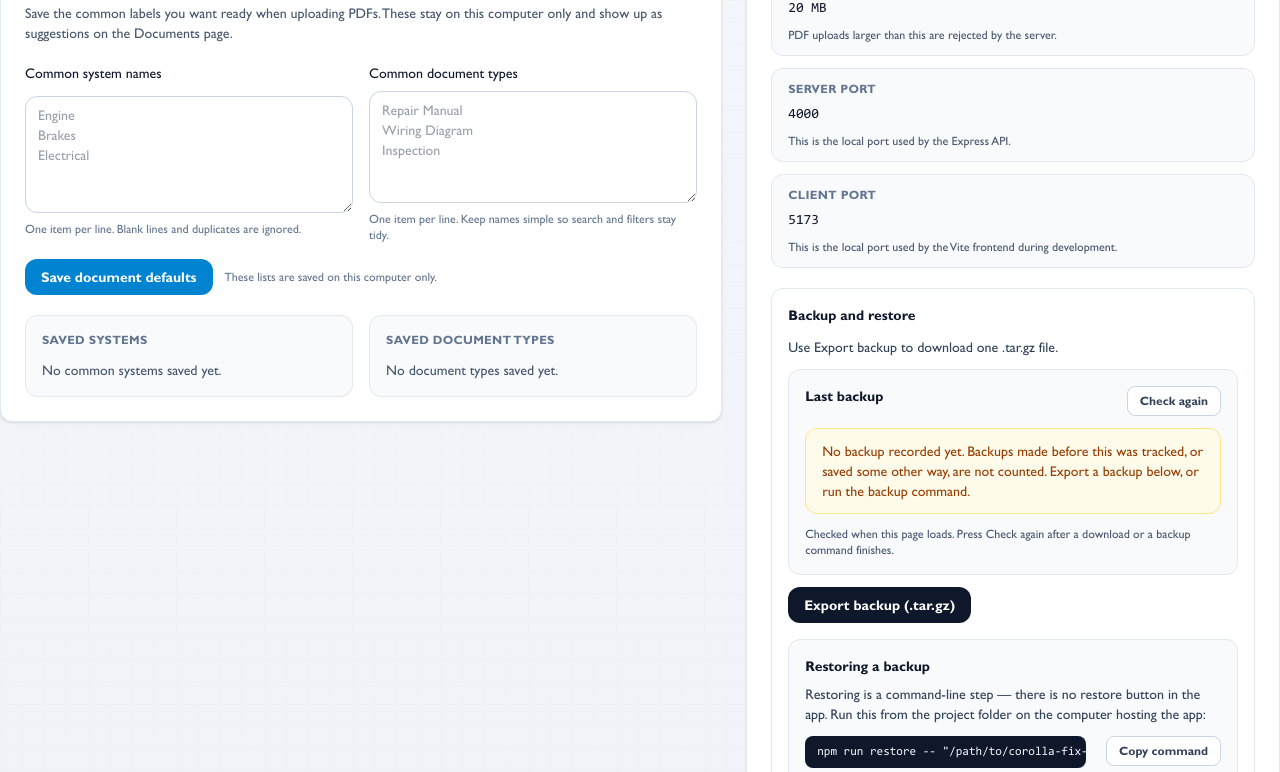
Scenario: Check again re-reads the status, and keeps the last values if the check fails
The image size is (1280, 772).
(page scrolled)
Expected: the text "No backup recorded yet" is shown, [822,443,1203,499]
Click the button "Check again" at (1174, 401), box [1127,386,1221,416]
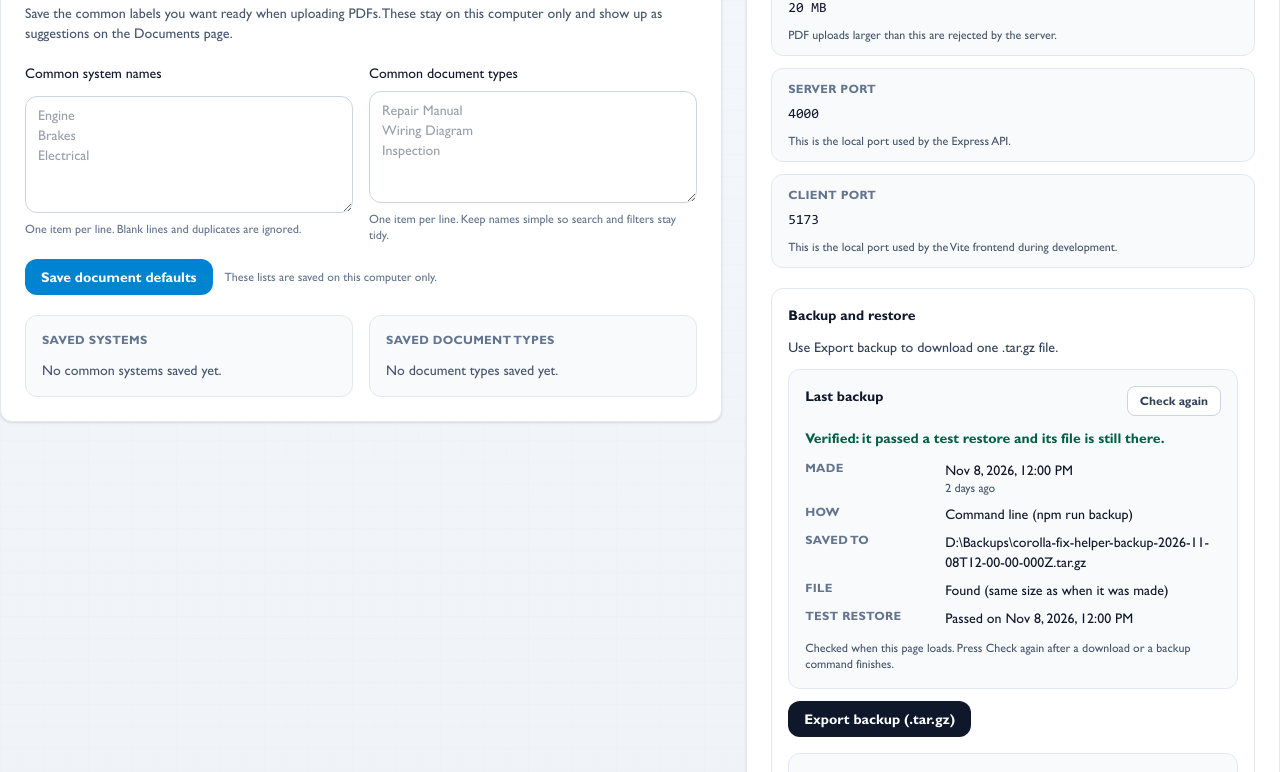
Result: the text "Verified: it passed a test restore" is shown at [805,430,1164,446]
Result: the text "No backup recorded yet" is gone
Click the button "Check again" at (1174, 401), box [1127,386,1221,416]
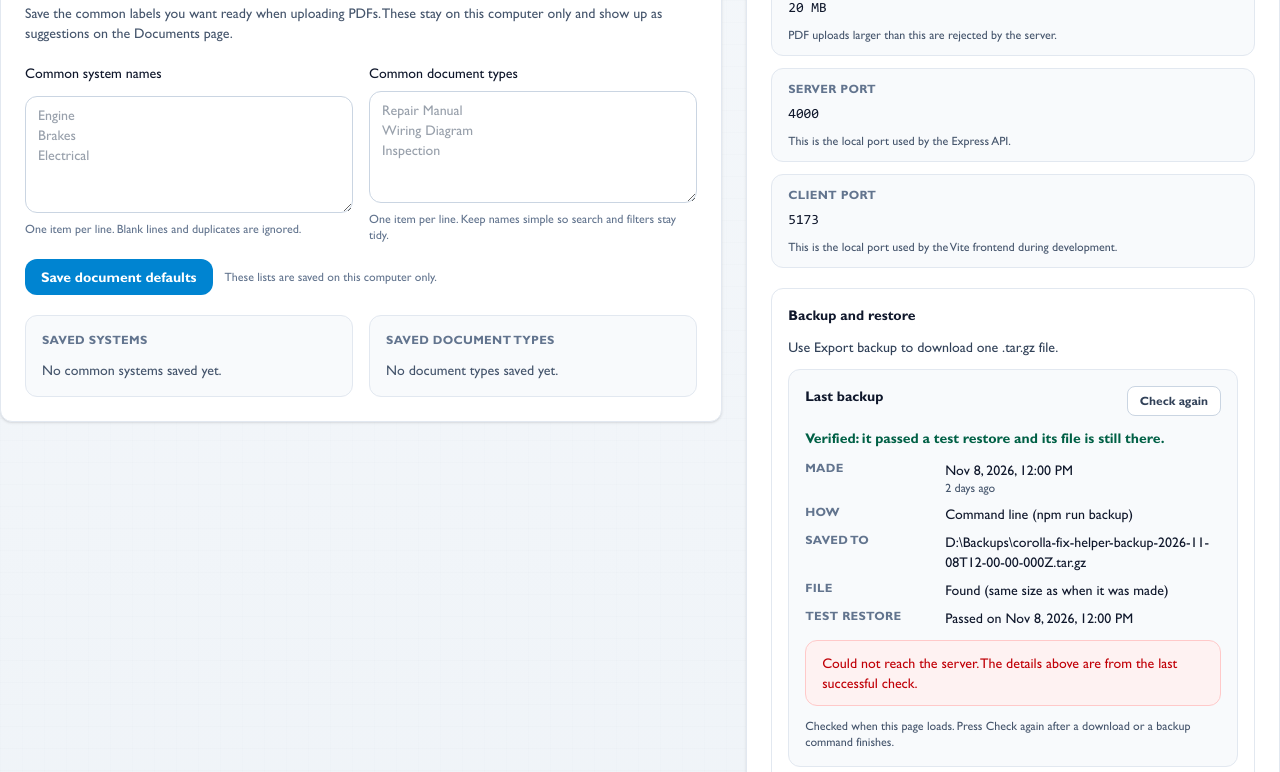
Result: the text "Verified: it passed a test restore" is shown at [805,430,1164,446]
Result: the text "Could not reach the server" is shown at [822,655,979,671]
